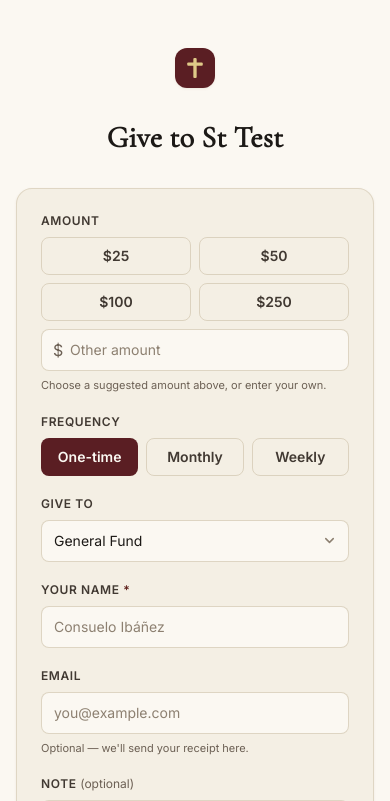
Test case: a gift is not received until the server says it was › G. a real success is thanked, once the server has said so
Expected: the number field with placeholder "Other amount" is shown, [41, 329, 349, 371]
Type "Test Donor" into the field with placeholder "Consuelo Ibáñez" at (195, 626), box [41, 606, 349, 648]
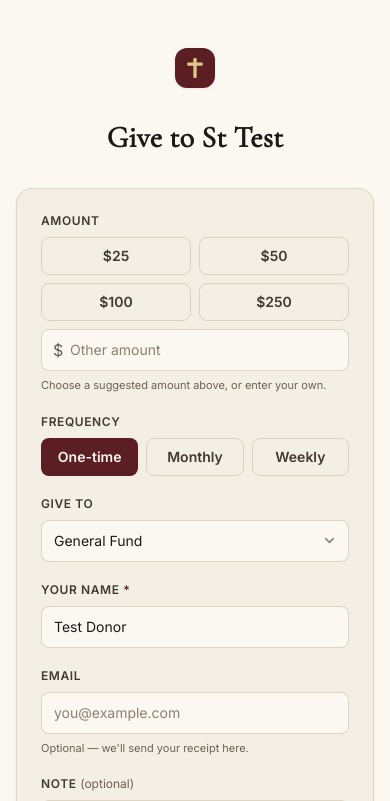
Type "25" into the number field with placeholder "Other amount" at (195, 350), box [41, 329, 349, 371]
(page scrolled)
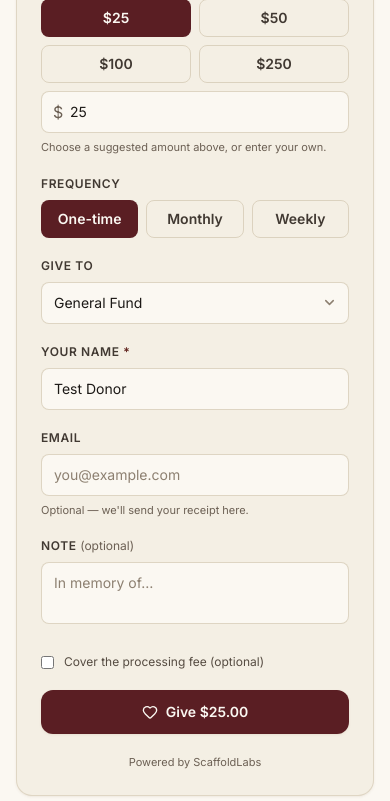
Click the button "Give $25.00" at (195, 712), box [41, 690, 349, 734]
(page scrolled)
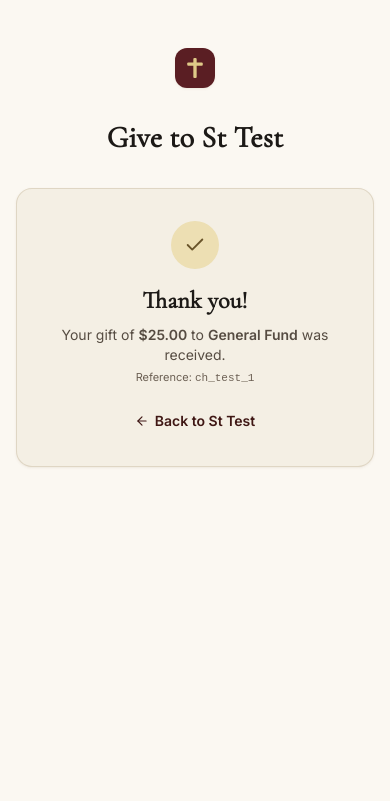
Expected: the heading "Thank you!" is shown, [142, 286, 248, 315]
Expected: the text "ch_test_1" is shown, [195, 372, 254, 384]
